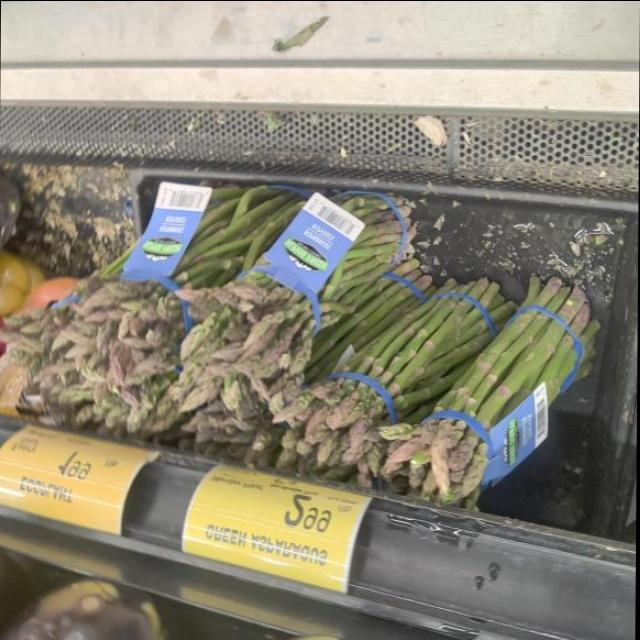Asparagus: (167, 178, 432, 368), (31, 166, 210, 437), (387, 277, 606, 495), (276, 264, 521, 456)
